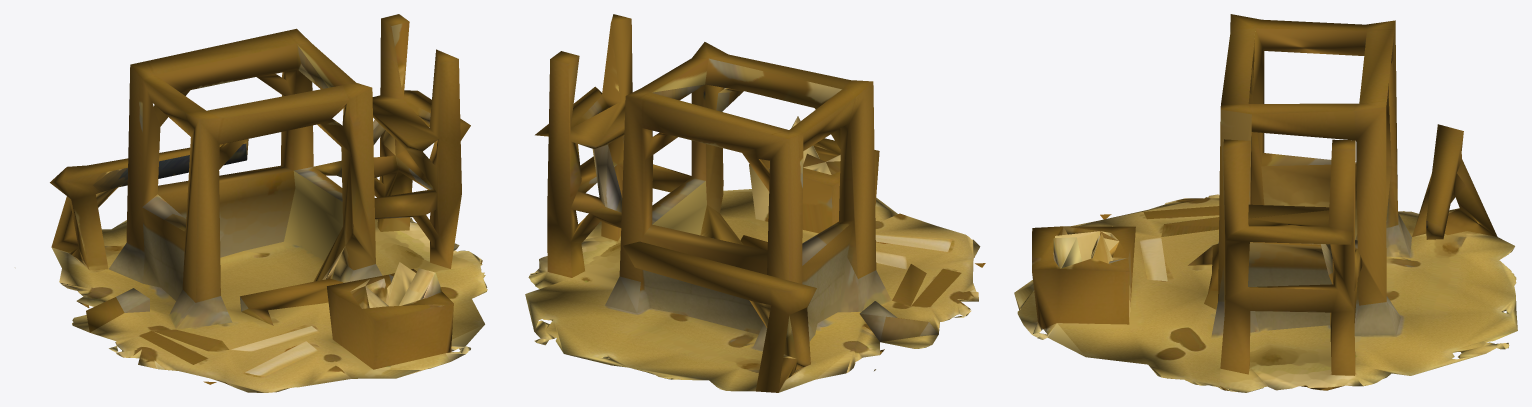
File: underConstruction.glb
The picture shows the model from 3 angles, left to right: view 1: azimuth 30°, elevation 25°; view 2: azimuth 150°, elevation 25°; view 3: azimuth 270°, elevation 25°; orthographic projection. The views are drawn at different scales.
Parts seen in each view (by area): view 1: tmpimot_g9f.ply; view 2: tmpimot_g9f.ply; view 3: tmpimot_g9f.ply.
Part boxes in pixels (x1,y1,x2,y2): tmpimot_g9f.ply: [50, 14, 487, 392]; tmpimot_g9f.ply: [525, 14, 985, 392]; tmpimot_g9f.ply: [1014, 14, 1517, 392].
Size of the model in its own units: 1.83 by 0.9886 by 1.94.
1 material, 1 textured.
